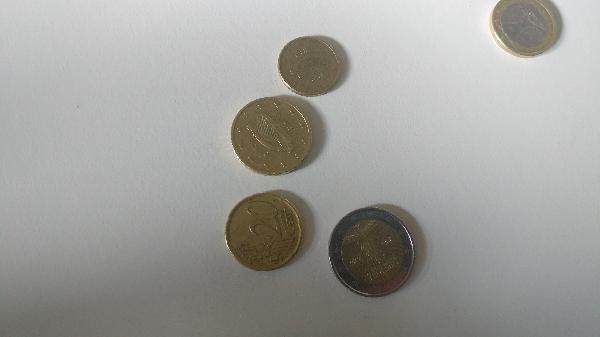Fifty Cent: (232, 97, 315, 178)
One Euro: (490, 1, 560, 58)
Ten Cent: (277, 33, 347, 97)
Twenty Cent: (223, 193, 304, 270)
Two Euro: (328, 208, 422, 298)
